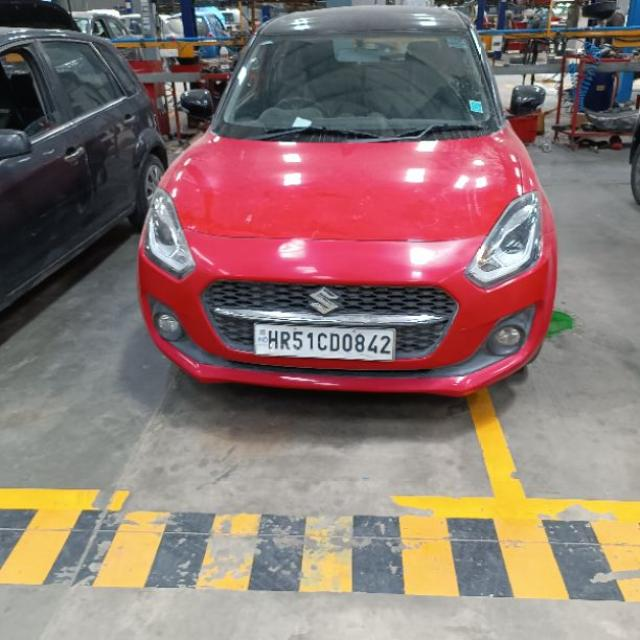license_plate: (252, 320, 396, 361)
